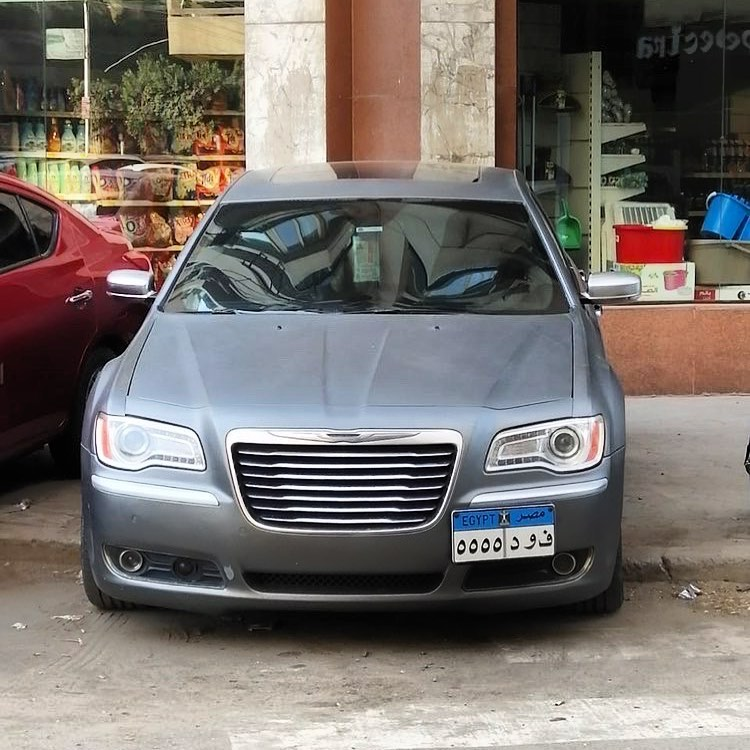carpl: (451, 505, 555, 562)
